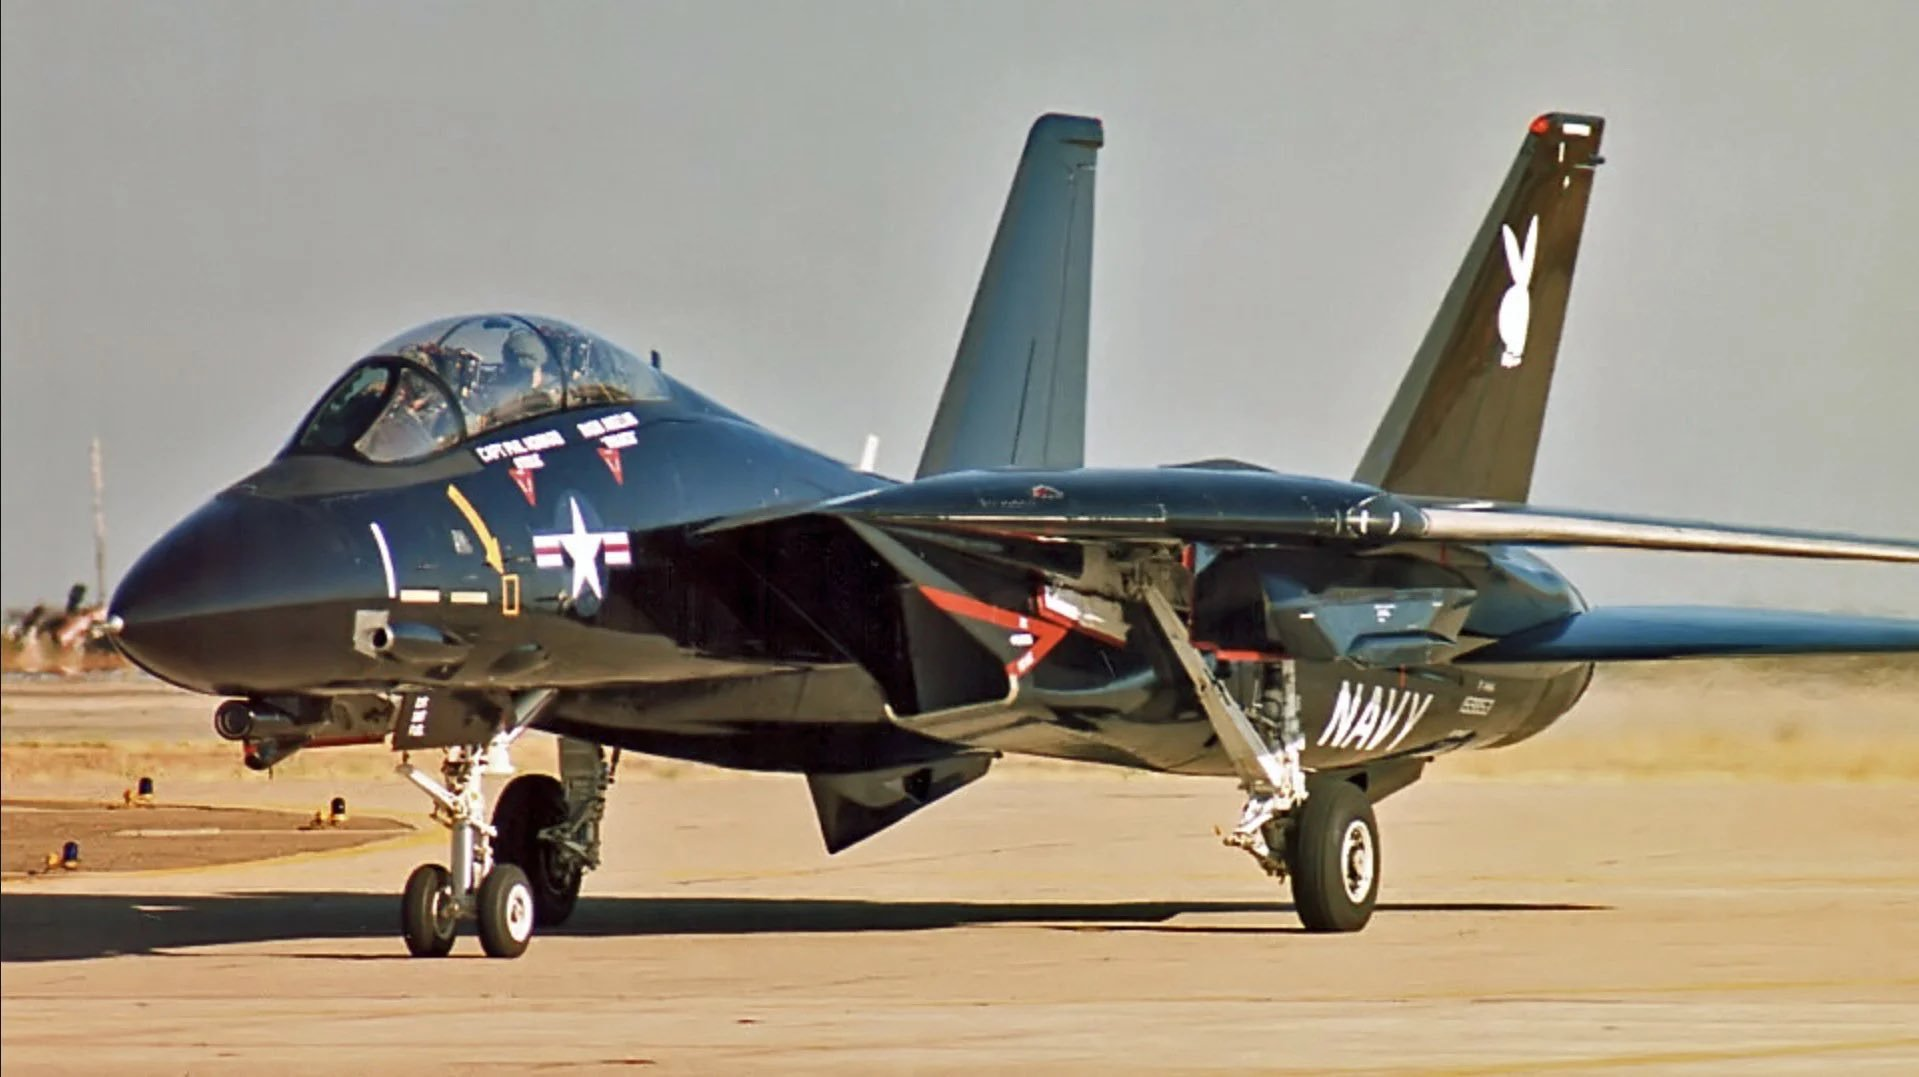F14: (91, 109, 1919, 958)
